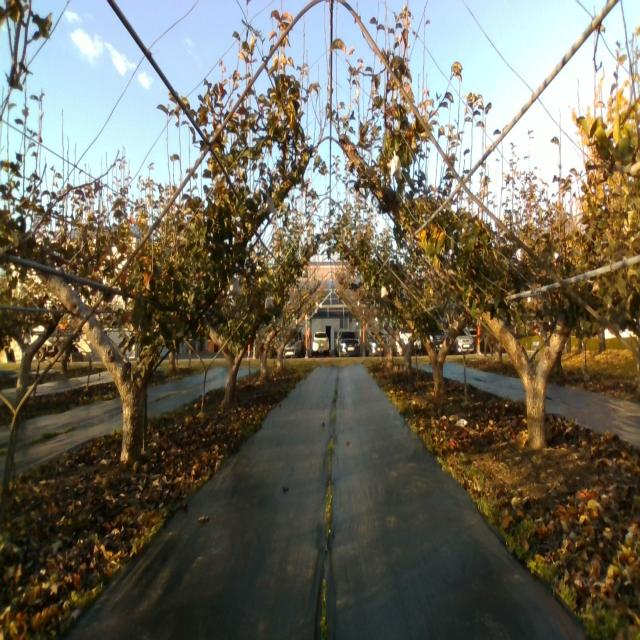pearbags: (391, 151, 403, 180), (228, 277, 244, 296)
